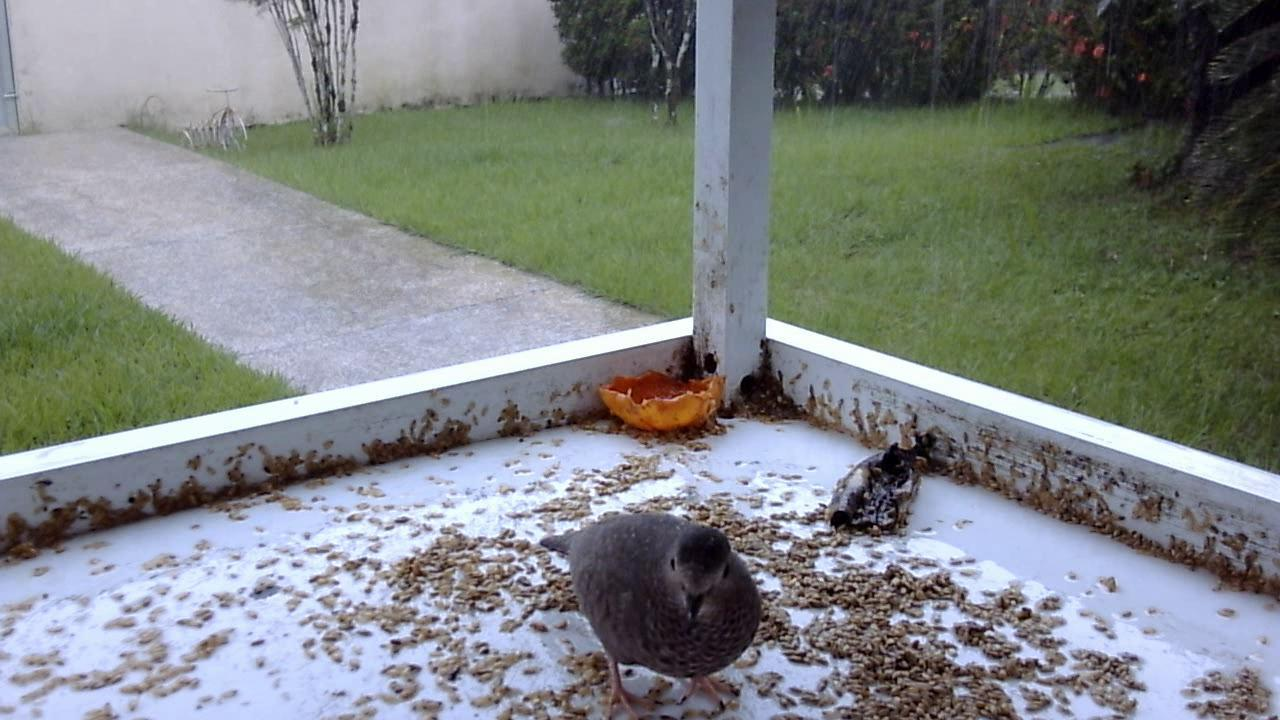rolinha: (537, 507, 764, 715)
